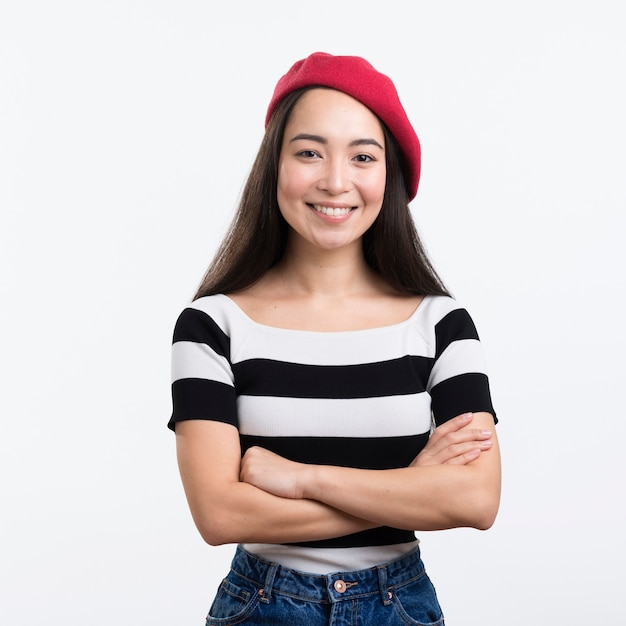teen: (217, 34, 439, 308)
